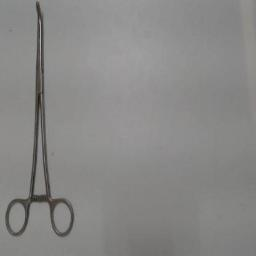Lahey Forceps: (0, 2, 80, 242)
